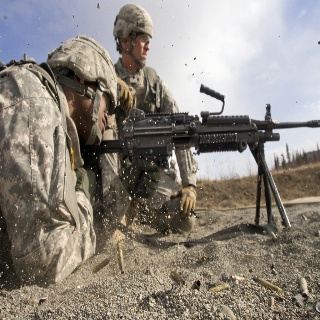rifle: (81, 81, 320, 156)
